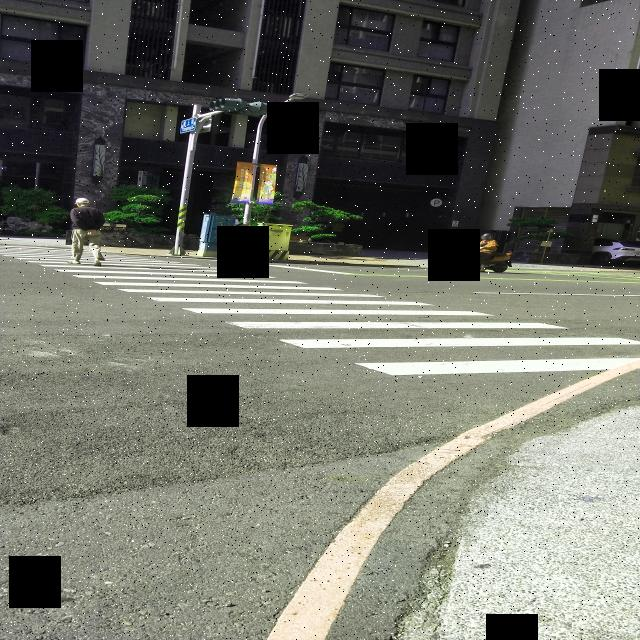person: (71, 198, 104, 266), (469, 234, 498, 271)
zebra crossing: (2, 243, 640, 376)
